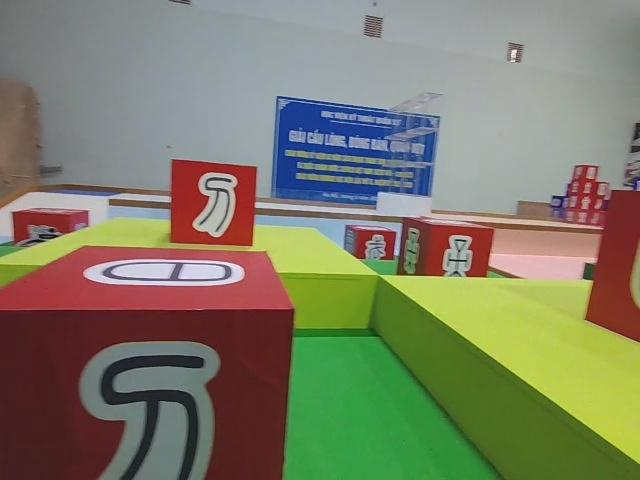R1: (10, 205, 89, 255)
R2 Fake: (0, 242, 298, 480), (167, 157, 260, 250), (342, 223, 398, 264)
R2 Real: (394, 213, 497, 285)
